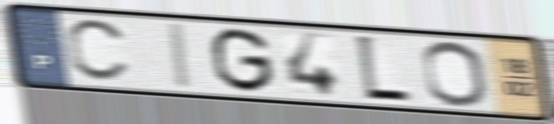4: (286, 30, 345, 100)
C: (64, 18, 133, 85)
G: (210, 26, 278, 95)
I: (168, 21, 195, 92)
L: (351, 32, 415, 107)
O: (419, 39, 492, 109)
